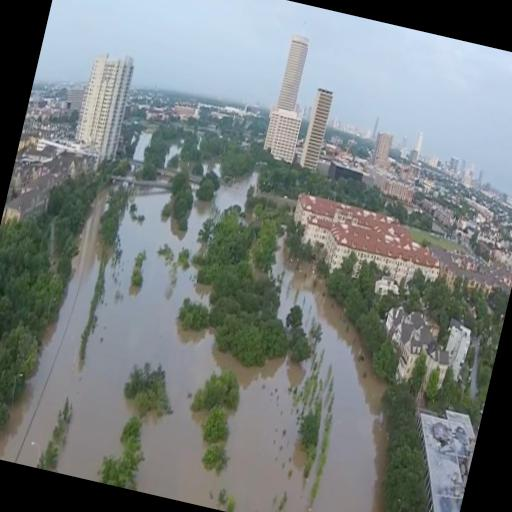flood: (0, 176, 386, 512)
house: (387, 401, 481, 512), (317, 216, 441, 294), (258, 32, 322, 164), (290, 192, 400, 264), (70, 47, 140, 159), (372, 301, 442, 384), (296, 83, 340, 173), (0, 181, 50, 232), (376, 170, 419, 207)
